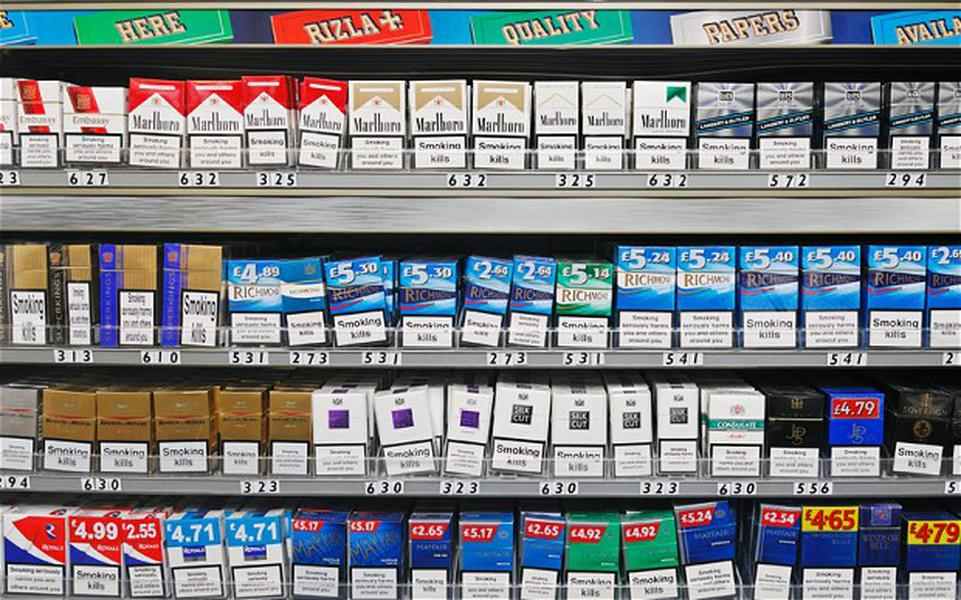marlboro_gold: (581, 82, 626, 171), (536, 82, 576, 171)
marlboro_red: (186, 82, 242, 171), (129, 81, 184, 169), (244, 77, 286, 169), (301, 79, 342, 169)
